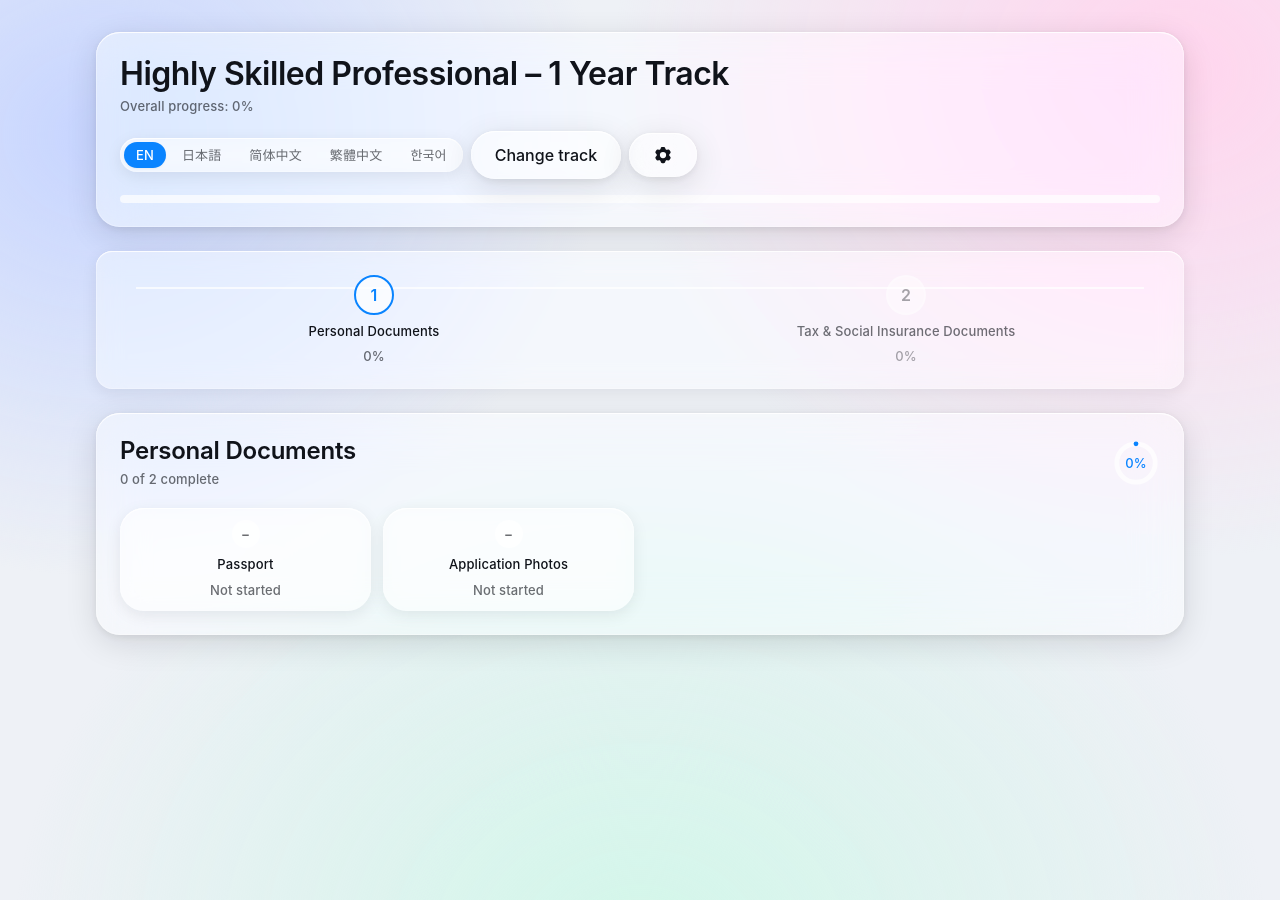
QuestMapPage – layout (7.1) › switches active milestone when a node is clicked
Click the tab with test id "milestone-node-m_financial" at (906, 320), box [644, 267, 1168, 373]
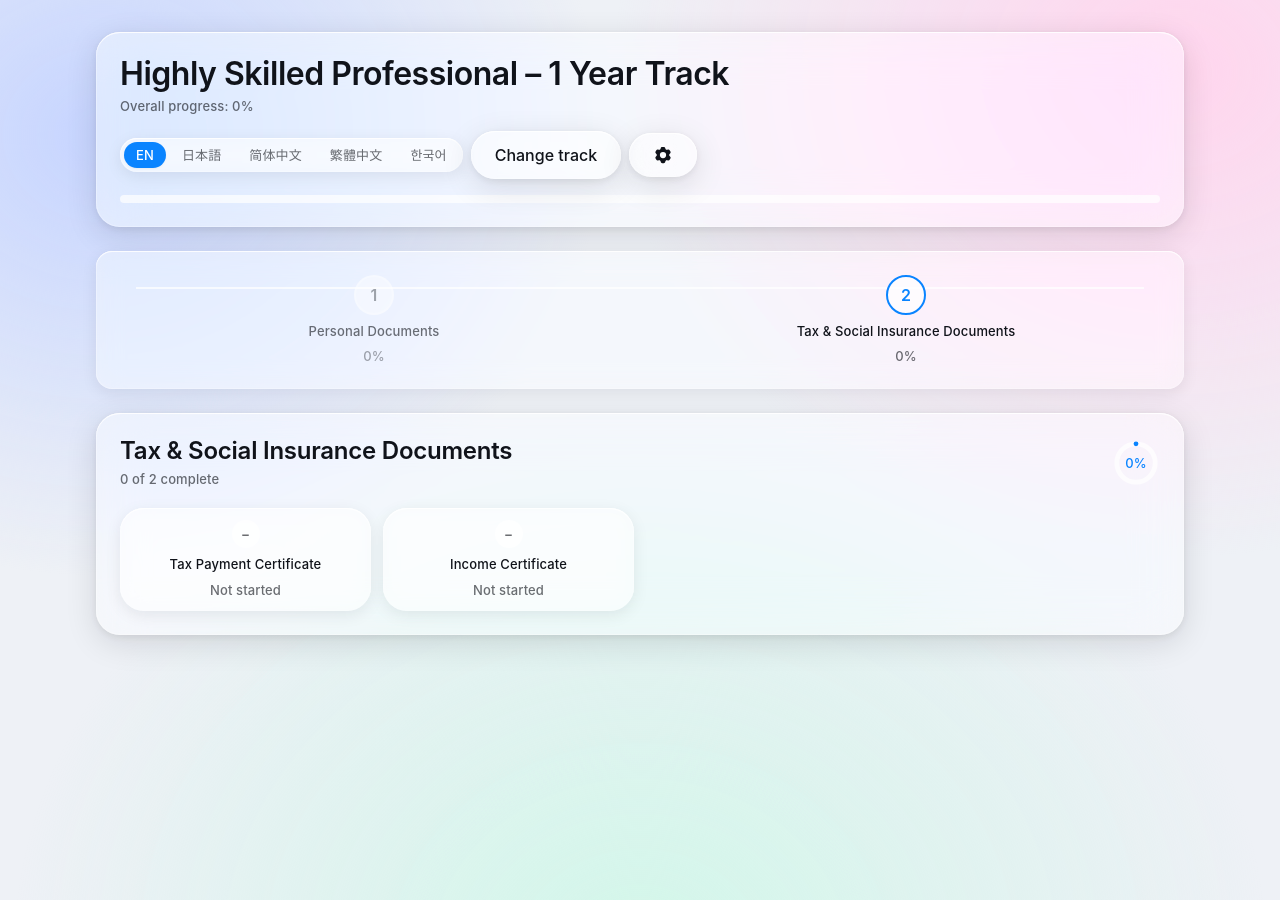
Expected: the element with test id "milestone-section-m_financial" is shown, [96, 413, 1184, 635]
